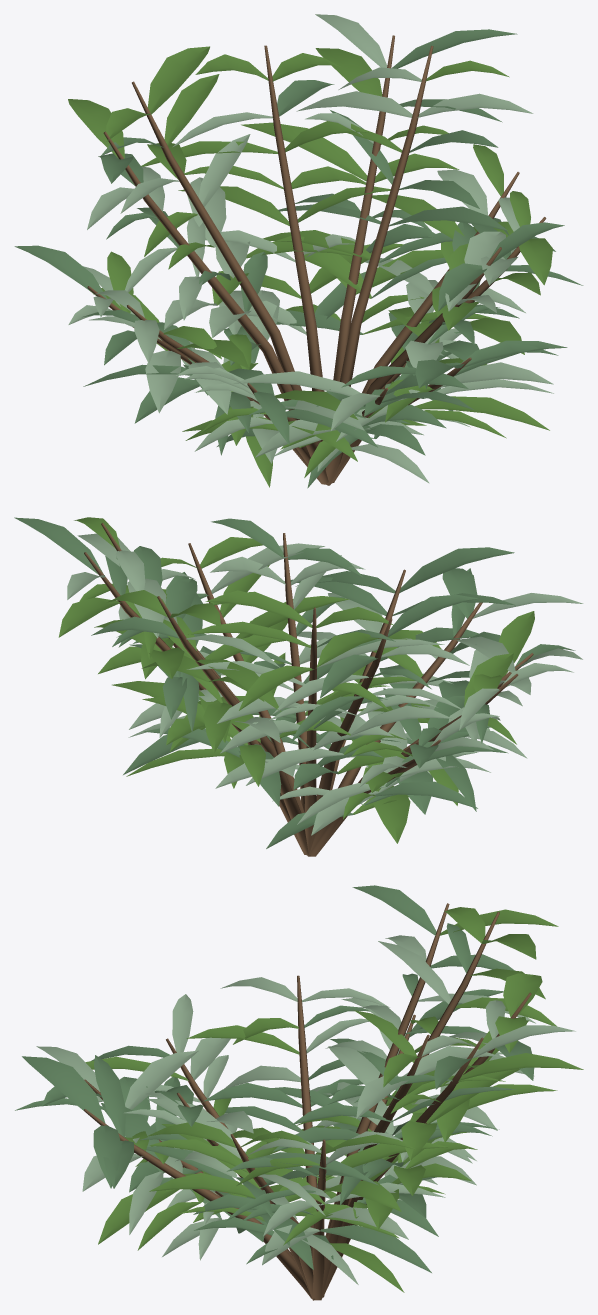
Rendered from sc_dwarf_willow.glb.
The picture shows the model from 3 angles, top to bottom: view 1: azimuth 30°, elevation 25°; view 2: azimuth 150°, elevation 25°; view 3: azimuth 270°, elevation 25°; orthographic projection. The views are drawn at different scales.
Parts seen in each view (by area): view 1: sc_dwarf_willow; view 2: sc_dwarf_willow; view 3: sc_dwarf_willow.
Boxes of the visible parts, bbox=[...] form: sc_dwarf_willow: bbox=[14, 14, 583, 488]; sc_dwarf_willow: bbox=[14, 517, 583, 856]; sc_dwarf_willow: bbox=[15, 885, 583, 1300].
Size of the model in its own units: 1.16 by 0.8232 by 1.24.
